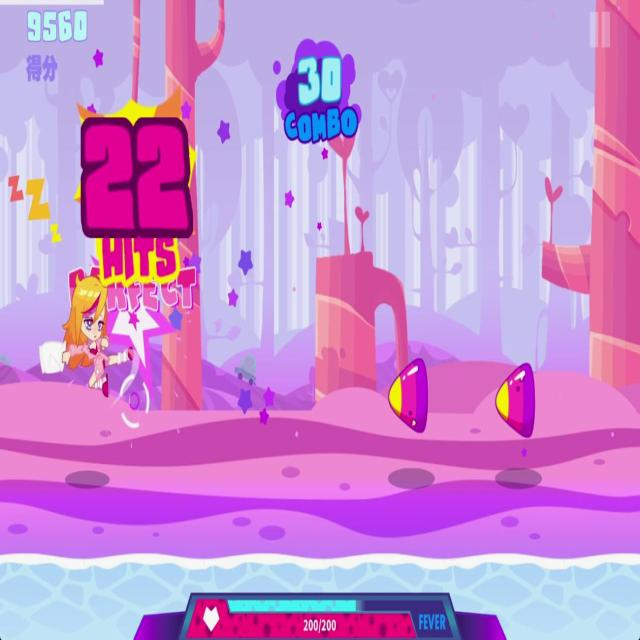jian: (492, 354, 540, 444), (387, 352, 432, 443)
